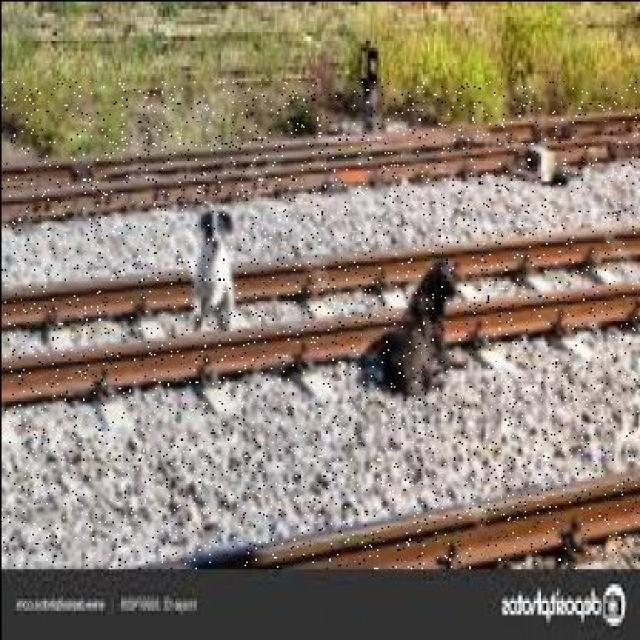danger: (375, 260, 460, 402), (180, 211, 238, 344)
rail: (0, 78, 637, 568)
